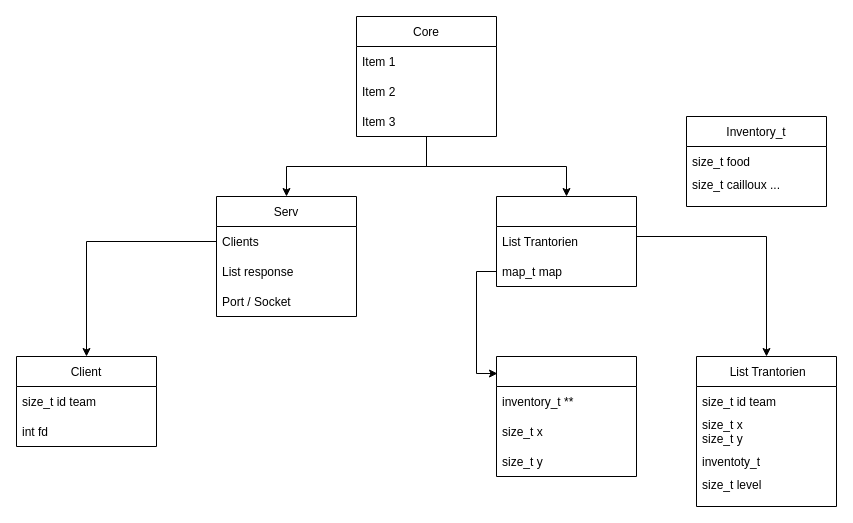
The diagram is 853 pixels wide and 523 high, and some of its shapes have lost their labels. The box of each missing label's shape, as (x1, y1, x2, y2) in pixels:
Game: (496, 196, 636, 286)
map_t: (496, 356, 636, 476)
